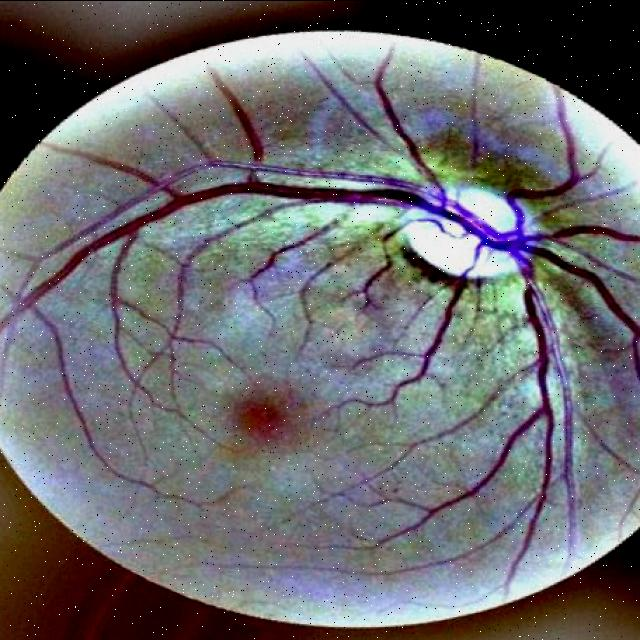Macula: (234, 396, 292, 441)
Nerves: (0, 48, 640, 575), (397, 244, 474, 386), (206, 84, 288, 170), (251, 220, 337, 279), (354, 226, 403, 306), (302, 255, 349, 296), (528, 288, 547, 362), (474, 100, 483, 161)
Optic Disk: (397, 208, 519, 275), (462, 187, 515, 229)
